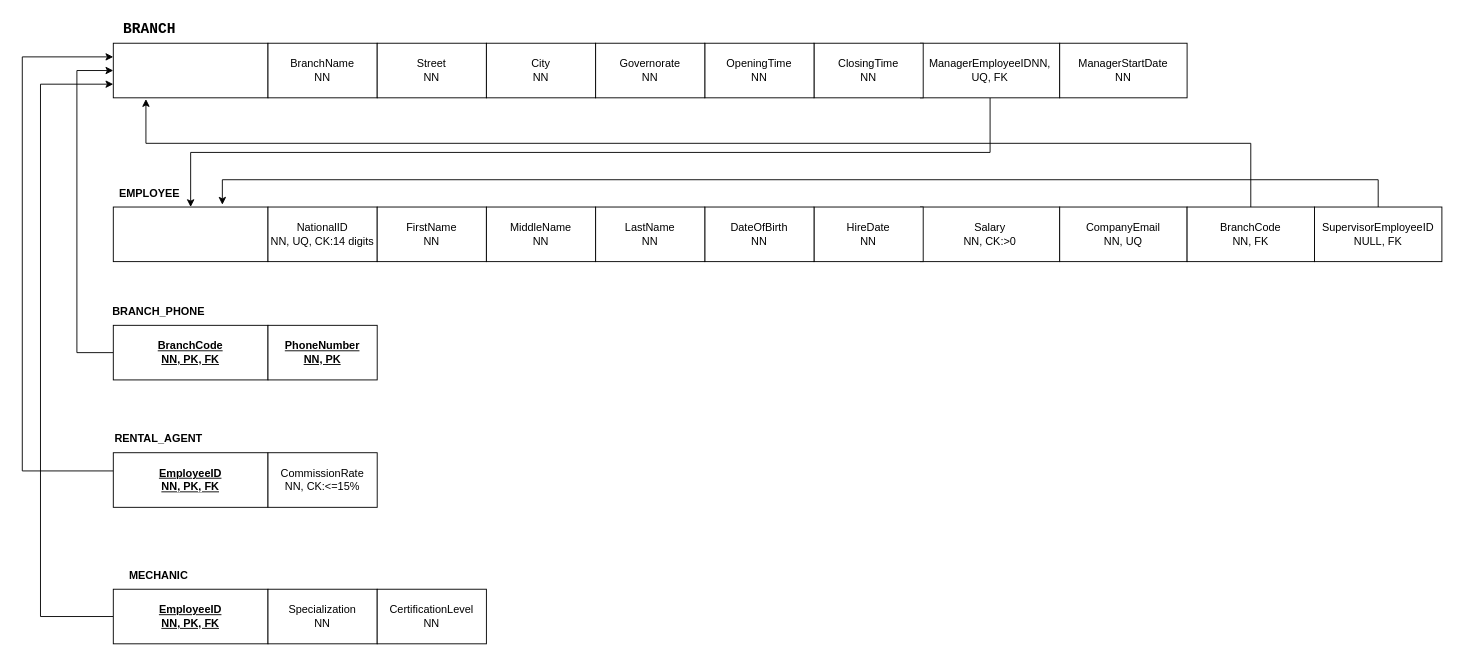
Some shapes in this 1458 by 660 pixel diagram are drawn without their labels. The shapes that lost their labels are listed below. From the top down, each one's centre as x and y in pixels, then its label:
At (190,70): "BranchCode NN".
At (190,234): "EmployeeID NN".
